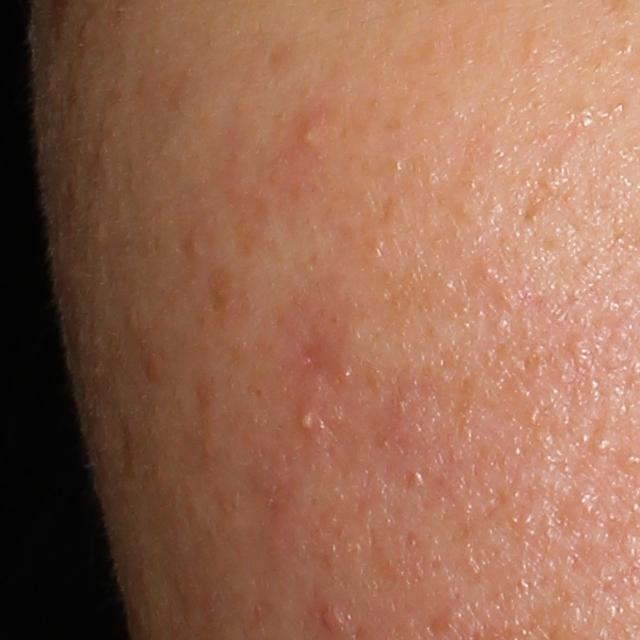comedo: (587, 432, 613, 454)
papule: (319, 596, 357, 635)
pustule: (291, 403, 326, 437)
